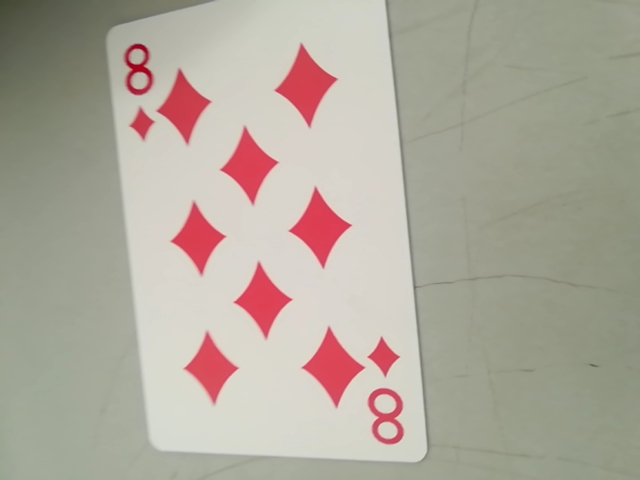fk 8: (110, 36, 172, 140), (361, 378, 411, 452)
